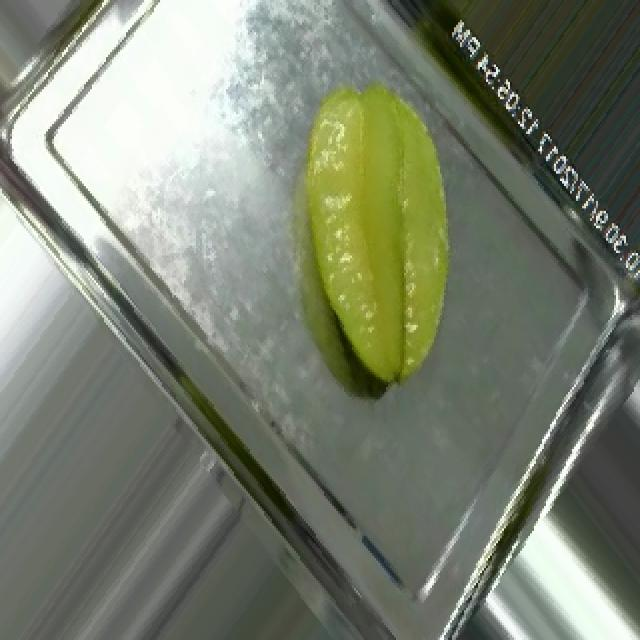fruit: (232, 42, 534, 429)
